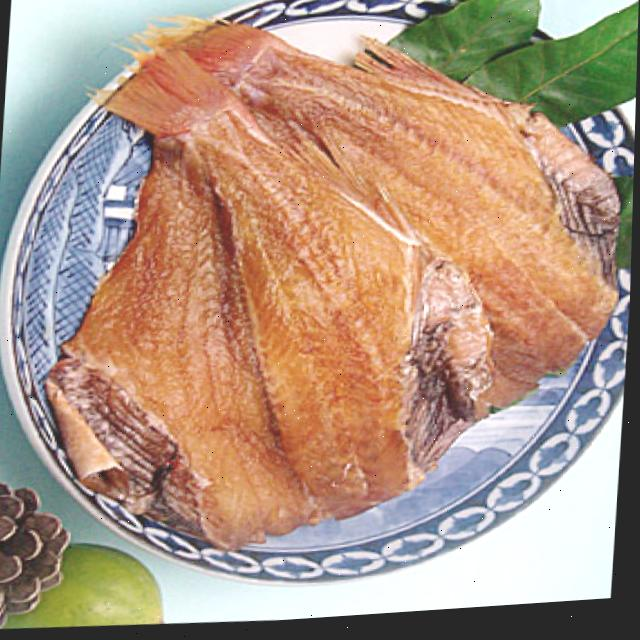熟制海鲜: (27, 0, 619, 572)
